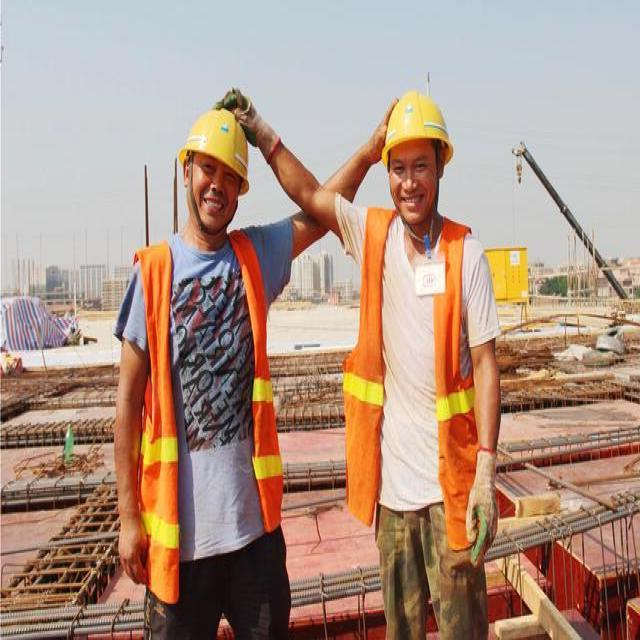Reflective-Jacket: (134, 228, 283, 578), (342, 207, 479, 532)
Safety-Helmet: (176, 102, 254, 194), (380, 84, 457, 165)
